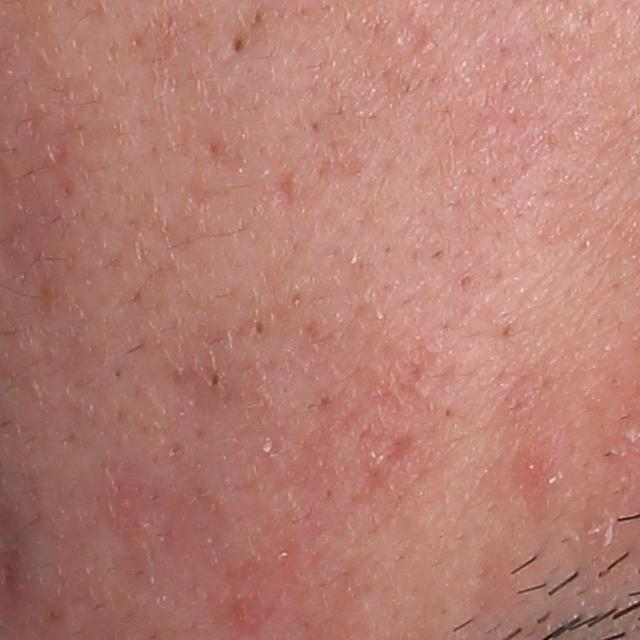atrophic_scar: (375, 431, 420, 484), (268, 167, 303, 214)
comedo: (251, 316, 272, 340), (228, 33, 249, 55), (207, 370, 225, 393)
